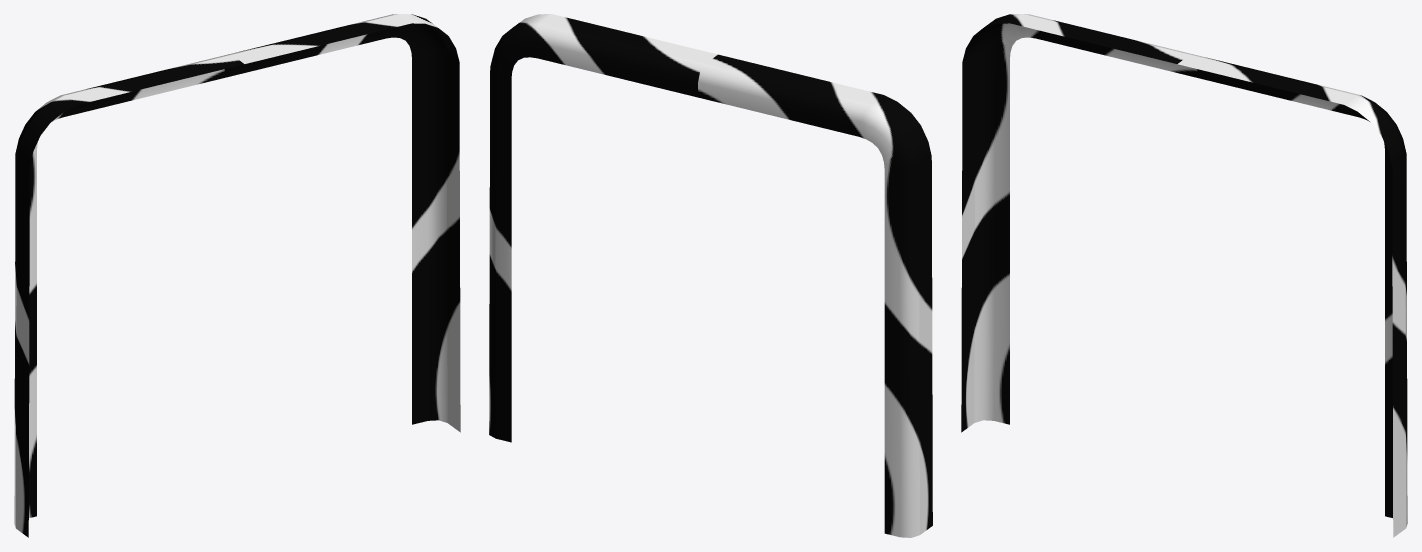
File: RampPiece_Trim.fbx
3 views of the same model, side by side, from view 1: azimuth 30°, elevation 25°; view 2: azimuth 150°, elevation 25°; view 3: azimuth 330°, elevation 25° (orthographic).
Parts seen in each view (by area): view 1: RampPiece_Trim; view 2: RampPiece_Trim; view 3: RampPiece_Trim.
Boxes of the visible parts, box(x1,y1,x2,y2) form: RampPiece_Trim: box(14, 14, 460, 537); RampPiece_Trim: box(489, 14, 932, 537); RampPiece_Trim: box(961, 14, 1407, 537).
Size of the model in its own units: 199 by 186 by 16.11.
